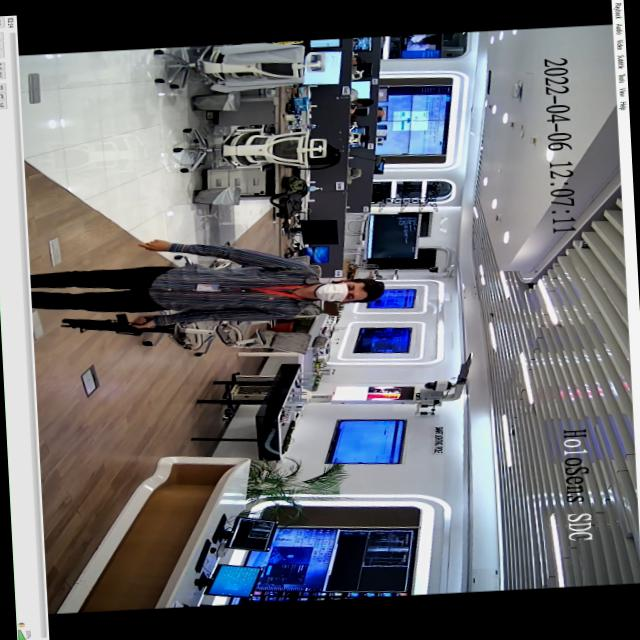long weapon: (45, 308, 200, 348)
